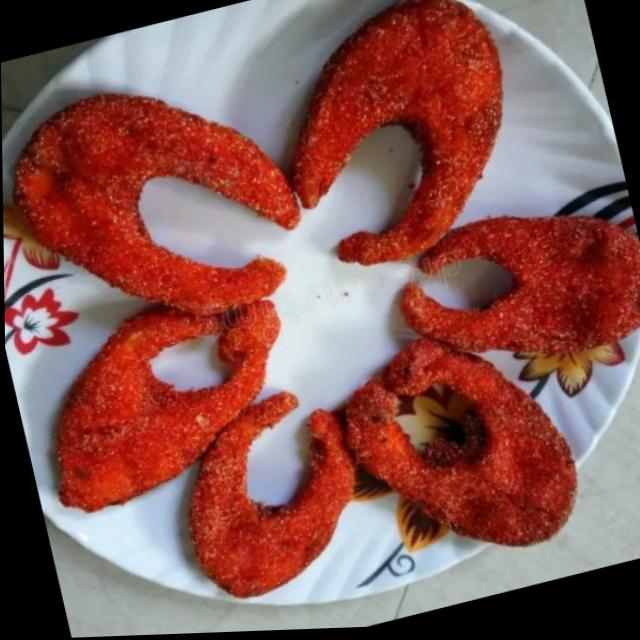FISH FRY: (3, 0, 640, 597)
